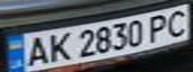0: (124, 17, 148, 47)
2: (72, 26, 96, 59)
3: (109, 20, 130, 52)
8: (93, 24, 115, 55)
A: (21, 34, 51, 68)
C: (160, 7, 193, 37)
K: (42, 29, 75, 63)
P: (142, 11, 175, 43)
